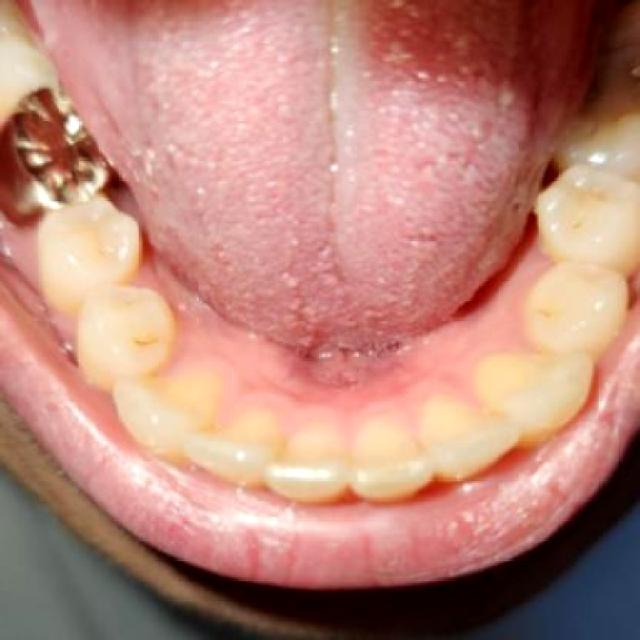Plaque: (123, 328, 168, 353), (563, 209, 595, 235), (538, 305, 558, 325)
